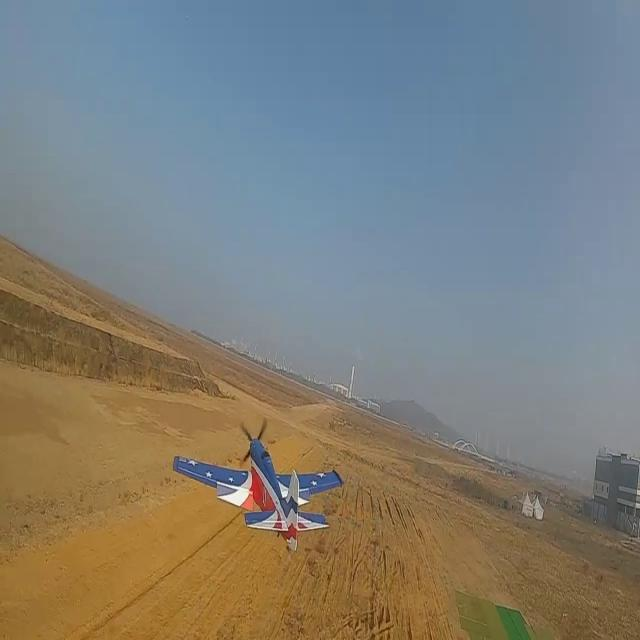iha: (174, 419, 344, 553)
